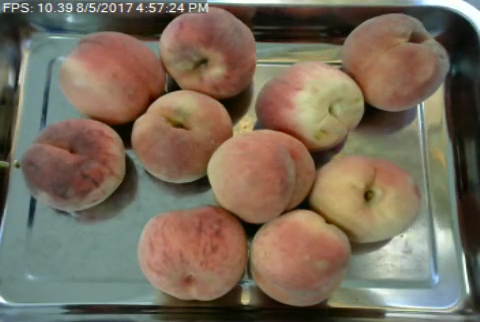Peach: (340, 12, 448, 113), (309, 152, 423, 246), (137, 206, 248, 301), (205, 129, 316, 222), (254, 59, 362, 154), (249, 208, 351, 307), (60, 29, 164, 125), (22, 116, 128, 210), (134, 89, 236, 184), (159, 6, 255, 98)
